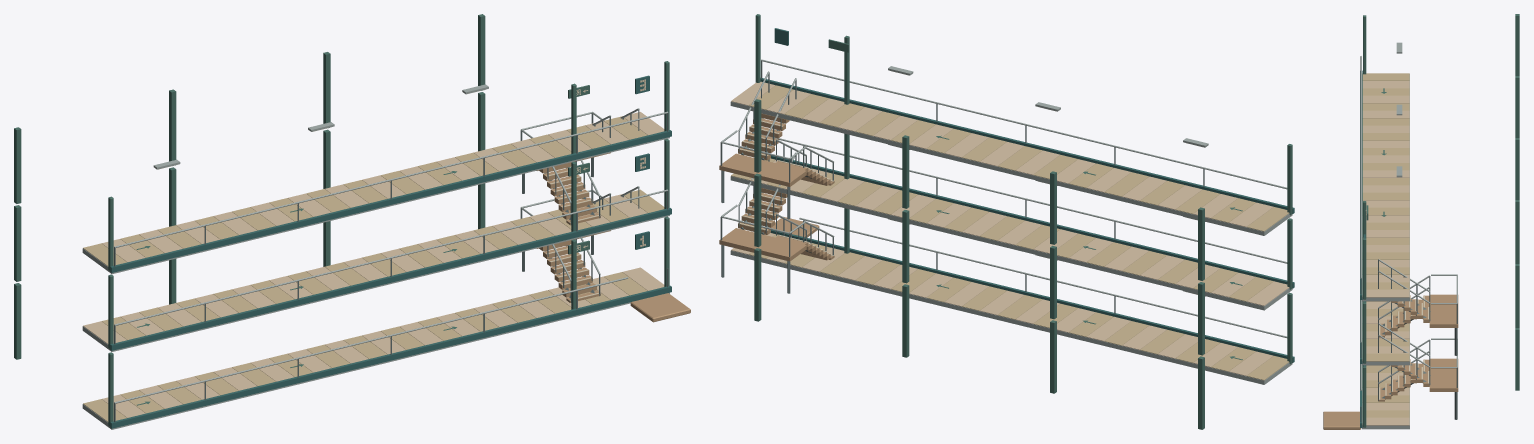
The model's file is building-shell.glb.
The picture shows the model from 3 angles, left to right: view 1: azimuth 30°, elevation 25°; view 2: azimuth 150°, elevation 25°; view 3: azimuth 270°, elevation 25°; orthographic projection. The views are drawn at different scales.
Parts seen in each view (by area): view 1: corridor_f3, corridor_f2, corridor_f1, stairs_f2_to_f3, stairs_f1_to_f2, structure_f3, structure_f2, structure_f1, entry_landing; view 2: corridor_f3, corridor_f2, corridor_f1, stairs_f2_to_f3, stairs_f1_to_f2, structure_f2, structure_f1, structure_f3; view 3: corridor_f3, stairs_f1_to_f2, stairs_f2_to_f3, corridor_f1, corridor_f2, structure_f3, entry_landing, structure_f1, structure_f2.
Part boxes in pixels (x1,y1,x2,y2): corridor_f3: (82, 61, 671, 274); corridor_f2: (82, 139, 671, 351); corridor_f1: (82, 216, 671, 429); stairs_f2_to_f3: (520, 108, 639, 225); stairs_f1_to_f2: (520, 186, 639, 302); structure_f3: (14, 14, 485, 203); structure_f2: (14, 92, 485, 281); structure_f1: (14, 183, 485, 359); entry_landing: (630, 293, 690, 322); corridor_f3: (730, 14, 1294, 235); corridor_f2: (730, 133, 1294, 310); corridor_f1: (730, 208, 1294, 384); stairs_f2_to_f3: (719, 71, 834, 219); stairs_f1_to_f2: (719, 152, 834, 293); structure_f2: (754, 173, 1204, 355); structure_f1: (754, 248, 1204, 429); structure_f3: (754, 99, 1204, 280); corridor_f3: (1360, 15, 1409, 301); stairs_f1_to_f2: (1378, 323, 1458, 419); stairs_f2_to_f3: (1378, 259, 1458, 355); corridor_f1: (1360, 364, 1409, 429); corridor_f2: (1360, 300, 1409, 365); structure_f3: (1515, 14, 1519, 262); entry_landing: (1323, 411, 1360, 429); structure_f1: (1515, 326, 1519, 390); structure_f2: (1515, 262, 1519, 326).
Bounding box in the file's own units: 24.13 × 9.62 × 8.89.
